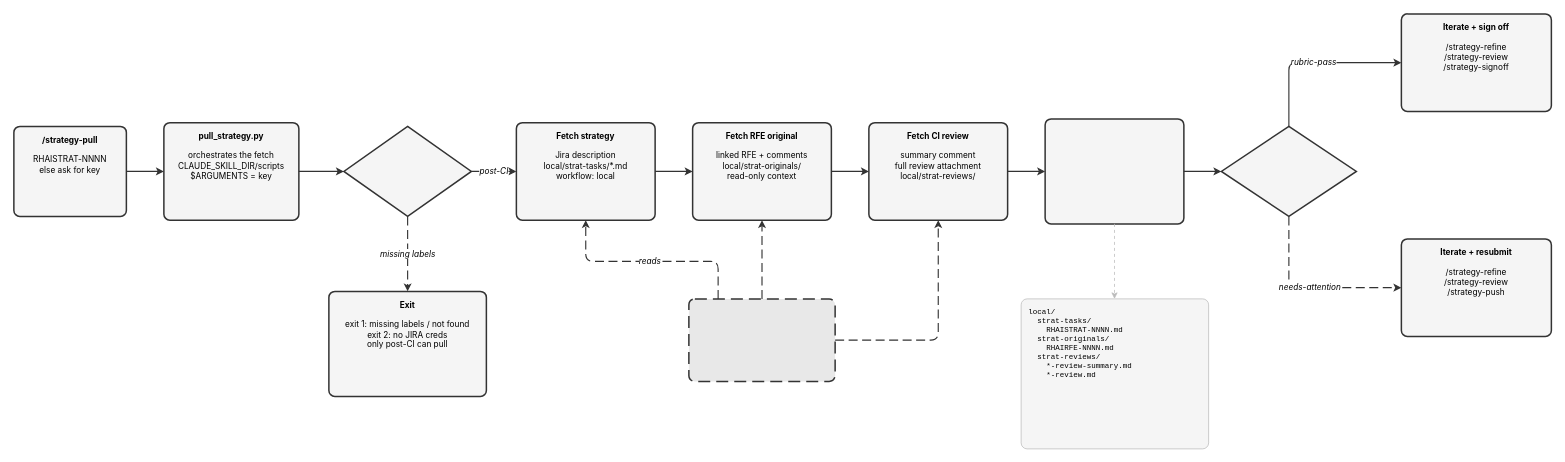
Image size: 1565x462. Some labels were removed from this diagram. The box of each missing label's shape, as (x1, y1, x2, y2) in pixels:
Advise next by CI verdict: (1220, 125, 1357, 217)
Jira (REST) — reads MCP or fetch_issue.py JIRA_SERVER / USER / TOKEN: (688, 298, 836, 382)
Post-CI label? rubric-pass needs-attention: (343, 125, 472, 217)
Summarize title + priority CI verdict review highlights source RFE: (1044, 118, 1184, 224)
